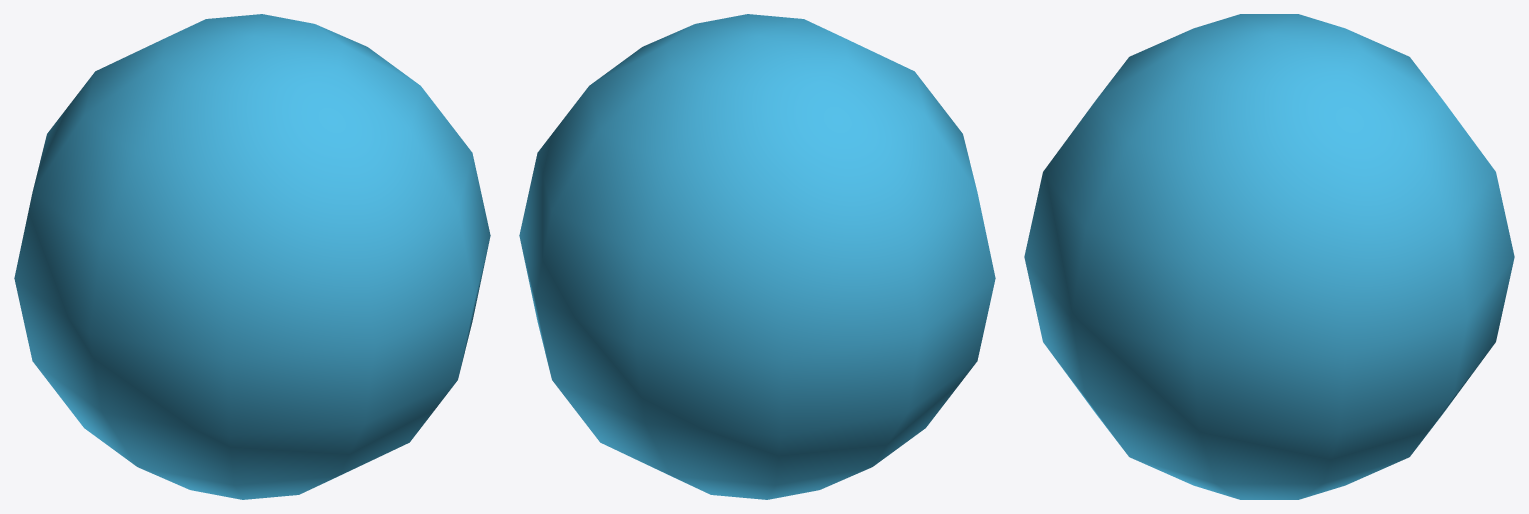
File: WaterBall.fbx
3 views of the same model, side by side, from view 1: azimuth 30°, elevation 25°; view 2: azimuth 150°, elevation 25°; view 3: azimuth 270°, elevation 25° (orthographic).
Visible parts, largest first — view 1: WaterBall; view 2: WaterBall; view 3: WaterBall.
Boxes of the visible parts, x1,y1,x2,y2 form: WaterBall: (14,14,490,499); WaterBall: (519,14,995,499); WaterBall: (1024,14,1514,499).
Bounding box in the file's own units: 19.02 × 20 × 20.
